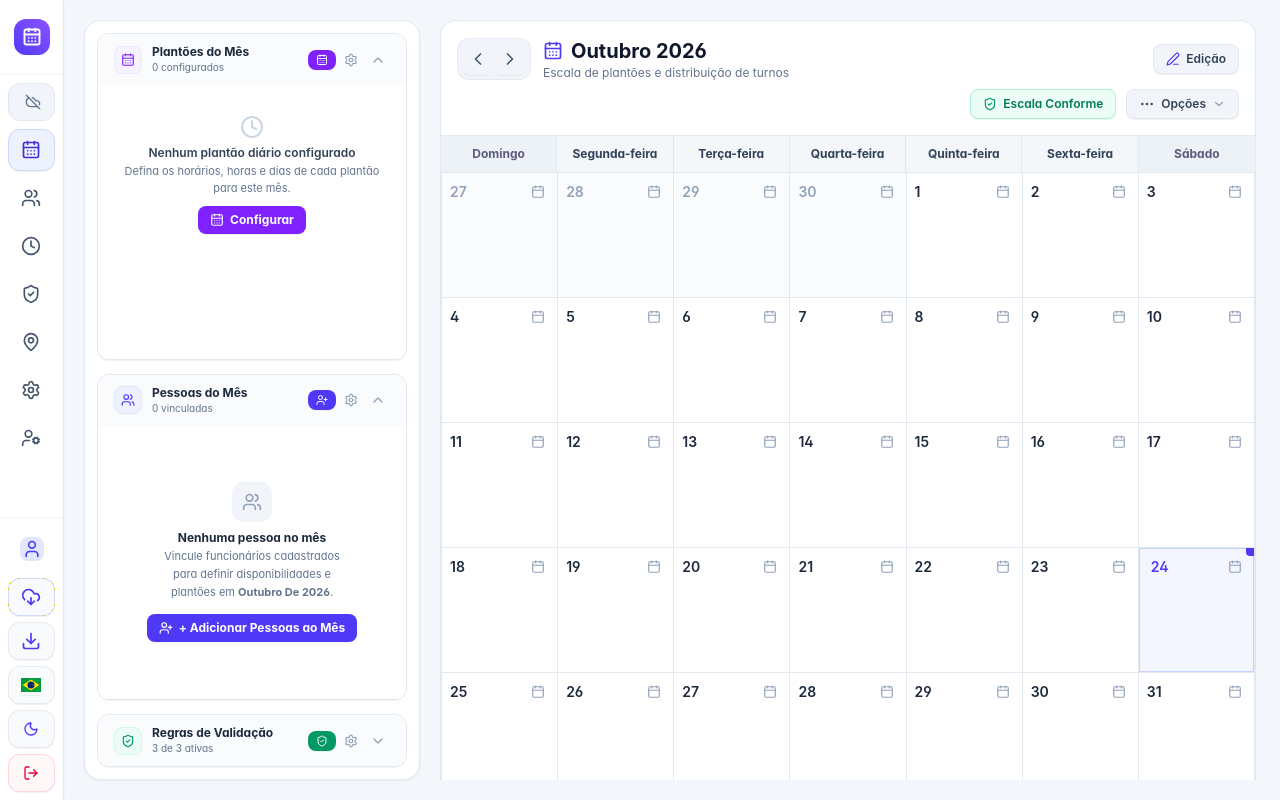
Application router (HashRouter & route mapping) › navigates between routes through the sidebar links
The image size is (1280, 800).
Note: Click on people link
Click the link named "gerenciar pessoas" at {"x": 31, "y": 198}, box [21,188,41,208]
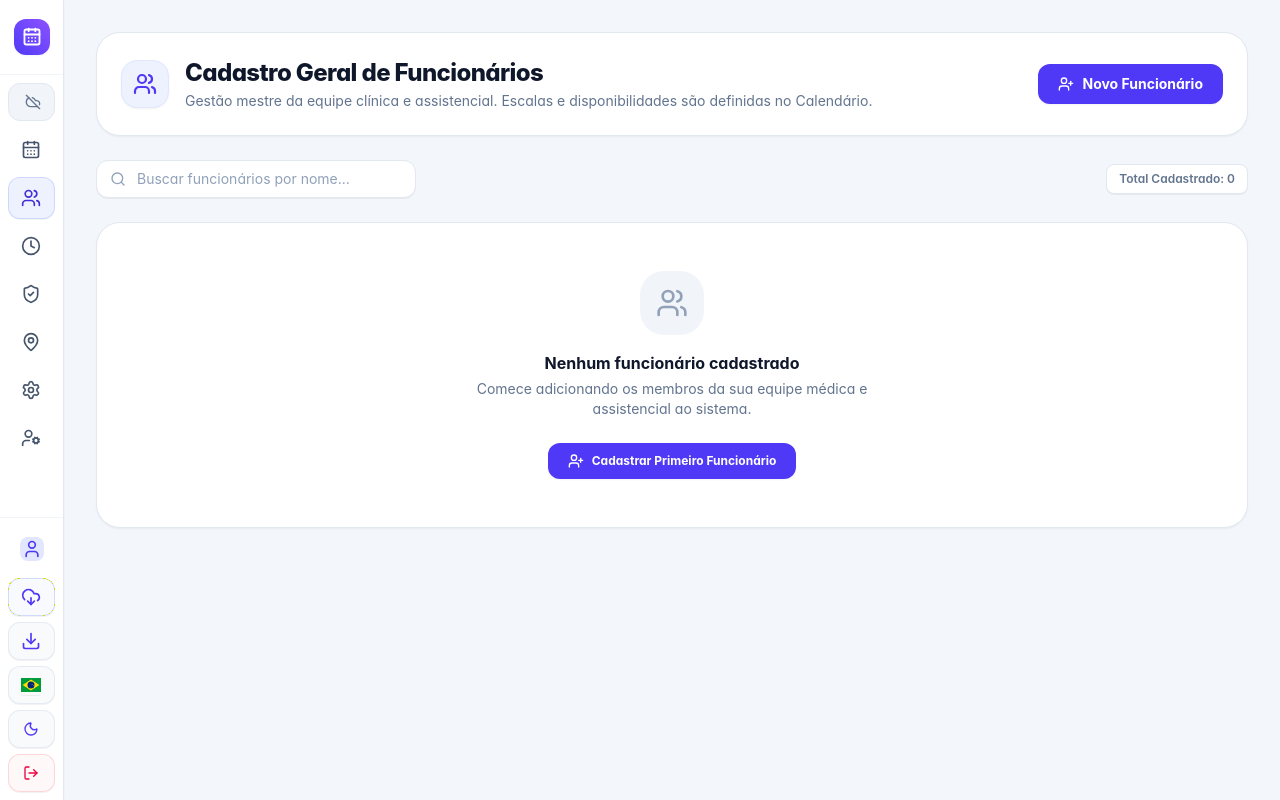
Now the heading "Cadastro Geral de Funcionários" is shown, box [185,58,543,87]
Note: Click on shifts link
Click the link named "turnos de trabalho" at {"x": 31, "y": 246}, box [21,236,41,256]
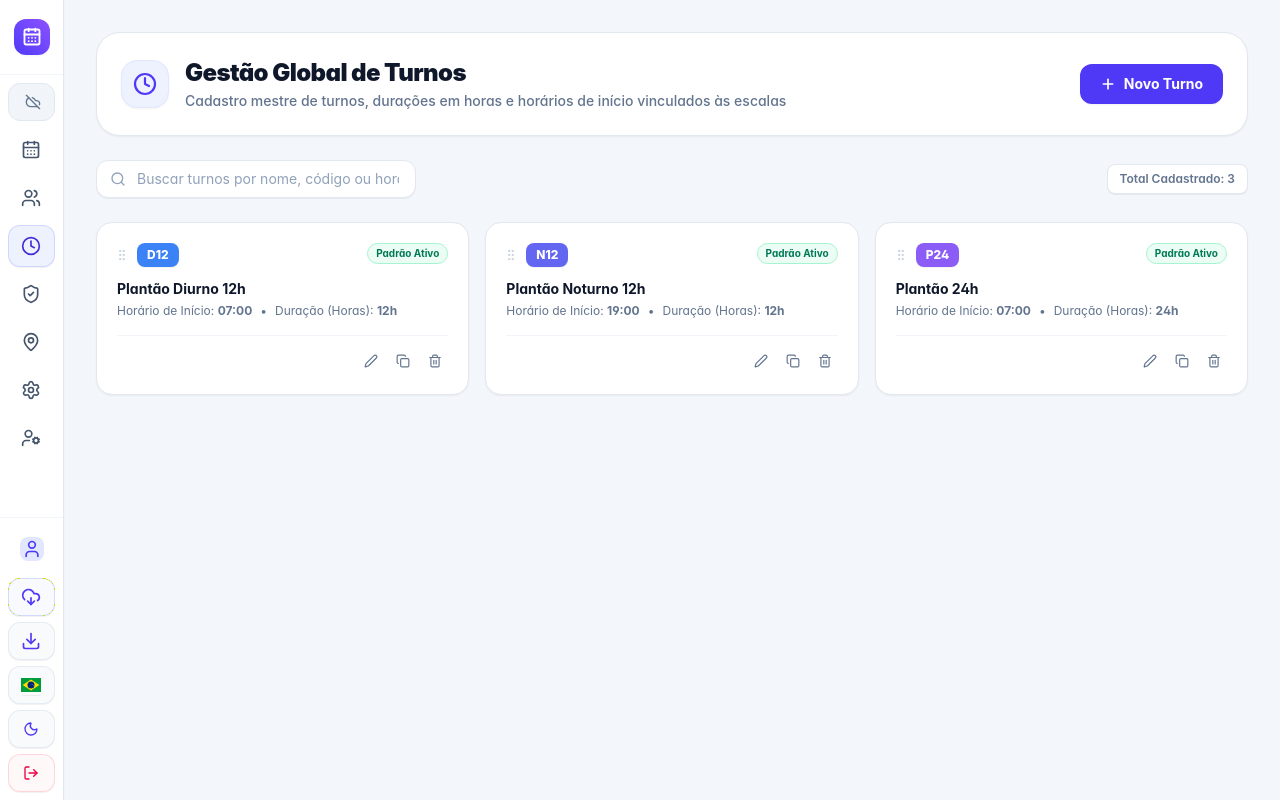
Now the heading "Gestão Global de Turnos" is shown, box [185,58,466,87]
Note: Click on settings link
Click the link named "configurações" at {"x": 31, "y": 390}, box [21,380,41,400]
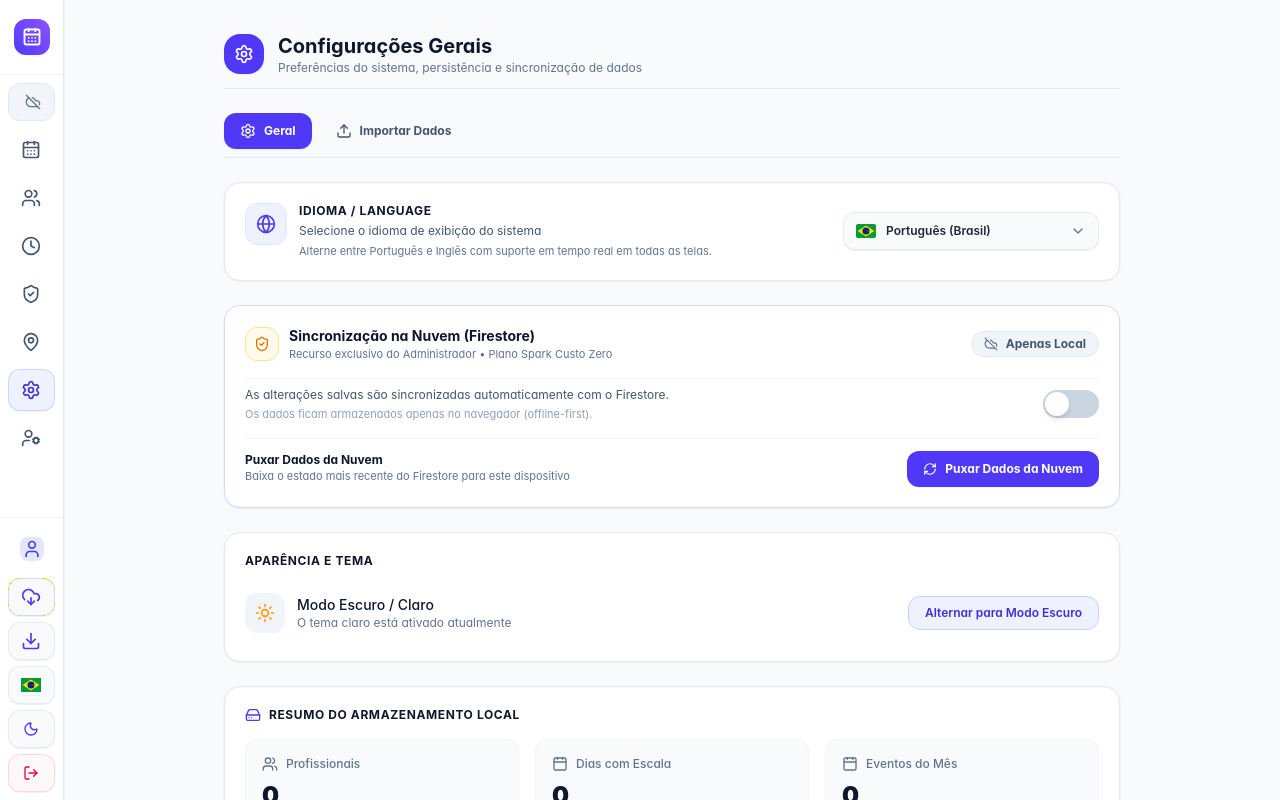
Now the element with test id "settings-view" is shown
